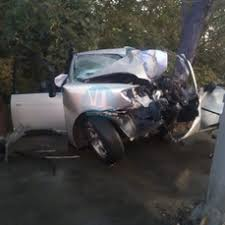car: (35, 45, 210, 168)
